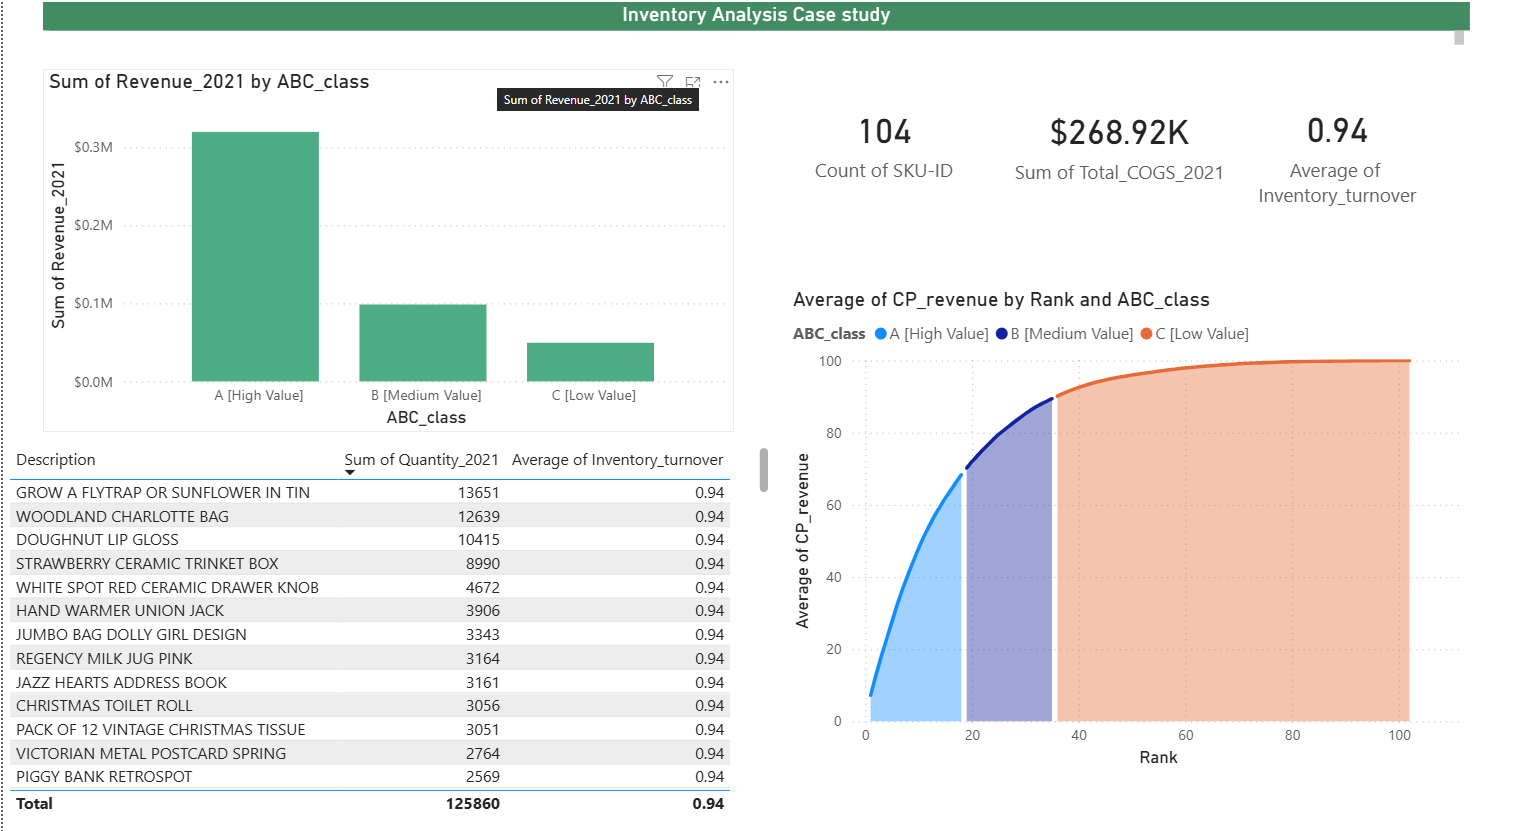

Layout of this report page (visuals, bound fields, positions):
{"tool":"powerbi","page":{"name":"Management Solution","canvas":[1280,720],"ordinal":9},"visuals":[{"type":"tableEx","fields":{"Values":["Stock.Description","Sum(Stock.Quantity_2021)","Avg(Turnover.Inventory_turnover)"]},"box":[0,375.4,650.7,319],"z":0},{"type":"clusteredColumnChart","fields":{"Category":["ABC.ABC_class"],"Y":["Sum(ABC.Revenue_2021)"]},"box":[34,61.3,582.6,306.4],"z":1},{"type":"card","fields":{"Values":["CountNonNull(Stock.SKU-ID)"]},"box":[650.7,45.7,183.8,153.7],"z":2},{"type":"card","fields":{"Values":["Sum(Stock.Total_COGS_2021)"]},"box":[841.3,54.5,176,148],"z":3},{"type":"card","fields":{"Values":["Avg(Turnover.Inventory_turnover)"]},"box":[1030,48.6,182.9,164.4],"z":4},{"type":"stackedAreaChart","fields":{"Category":["ABC.Rank"],"Y":["Avg(ABC.CP_revenue)"],"Series":["ABC.ABC_class"]},"box":[661.4,245.1,575.8,409.5],"z":5},{"type":"textbox","title":"Inventory Analysis Case study","box":[34,4.9,1203.2,40.9],"z":7}]}

Visuals, with their boxes in screenshot pixels (x1, y1, x2, y2), scaled from the page's 1280x720 canvas onto the 1518x831 screenshot:
tableEx - Stock.Description x Sum(Stock.Quantity_2021): bbox=[0, 433, 772, 801]
clusteredColumnChart - ABC.ABC_class x Sum(ABC.Revenue_2021): bbox=[40, 71, 731, 424]
card - CountNonNull(Stock.SKU-ID): bbox=[772, 53, 990, 230]
card - Sum(Stock.Total_COGS_2021): bbox=[998, 63, 1206, 234]
card - Avg(Turnover.Inventory_turnover): bbox=[1222, 56, 1438, 246]
stackedAreaChart - ABC.Rank x Avg(ABC.CP_revenue): bbox=[784, 283, 1467, 756]
"Inventory Analysis Case study" textbox: bbox=[40, 6, 1467, 53]
